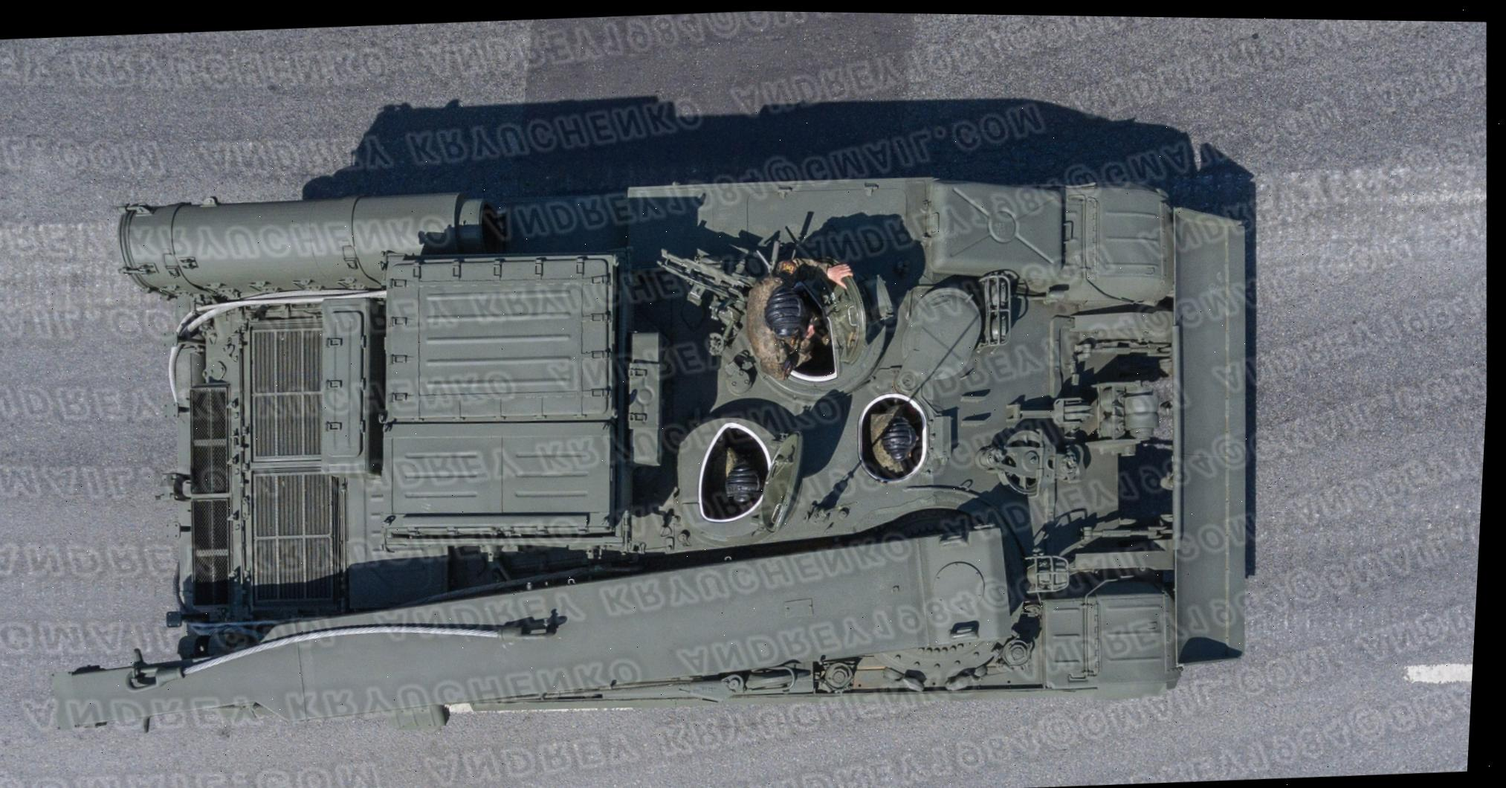armored_car: (78, 65, 1308, 757)
